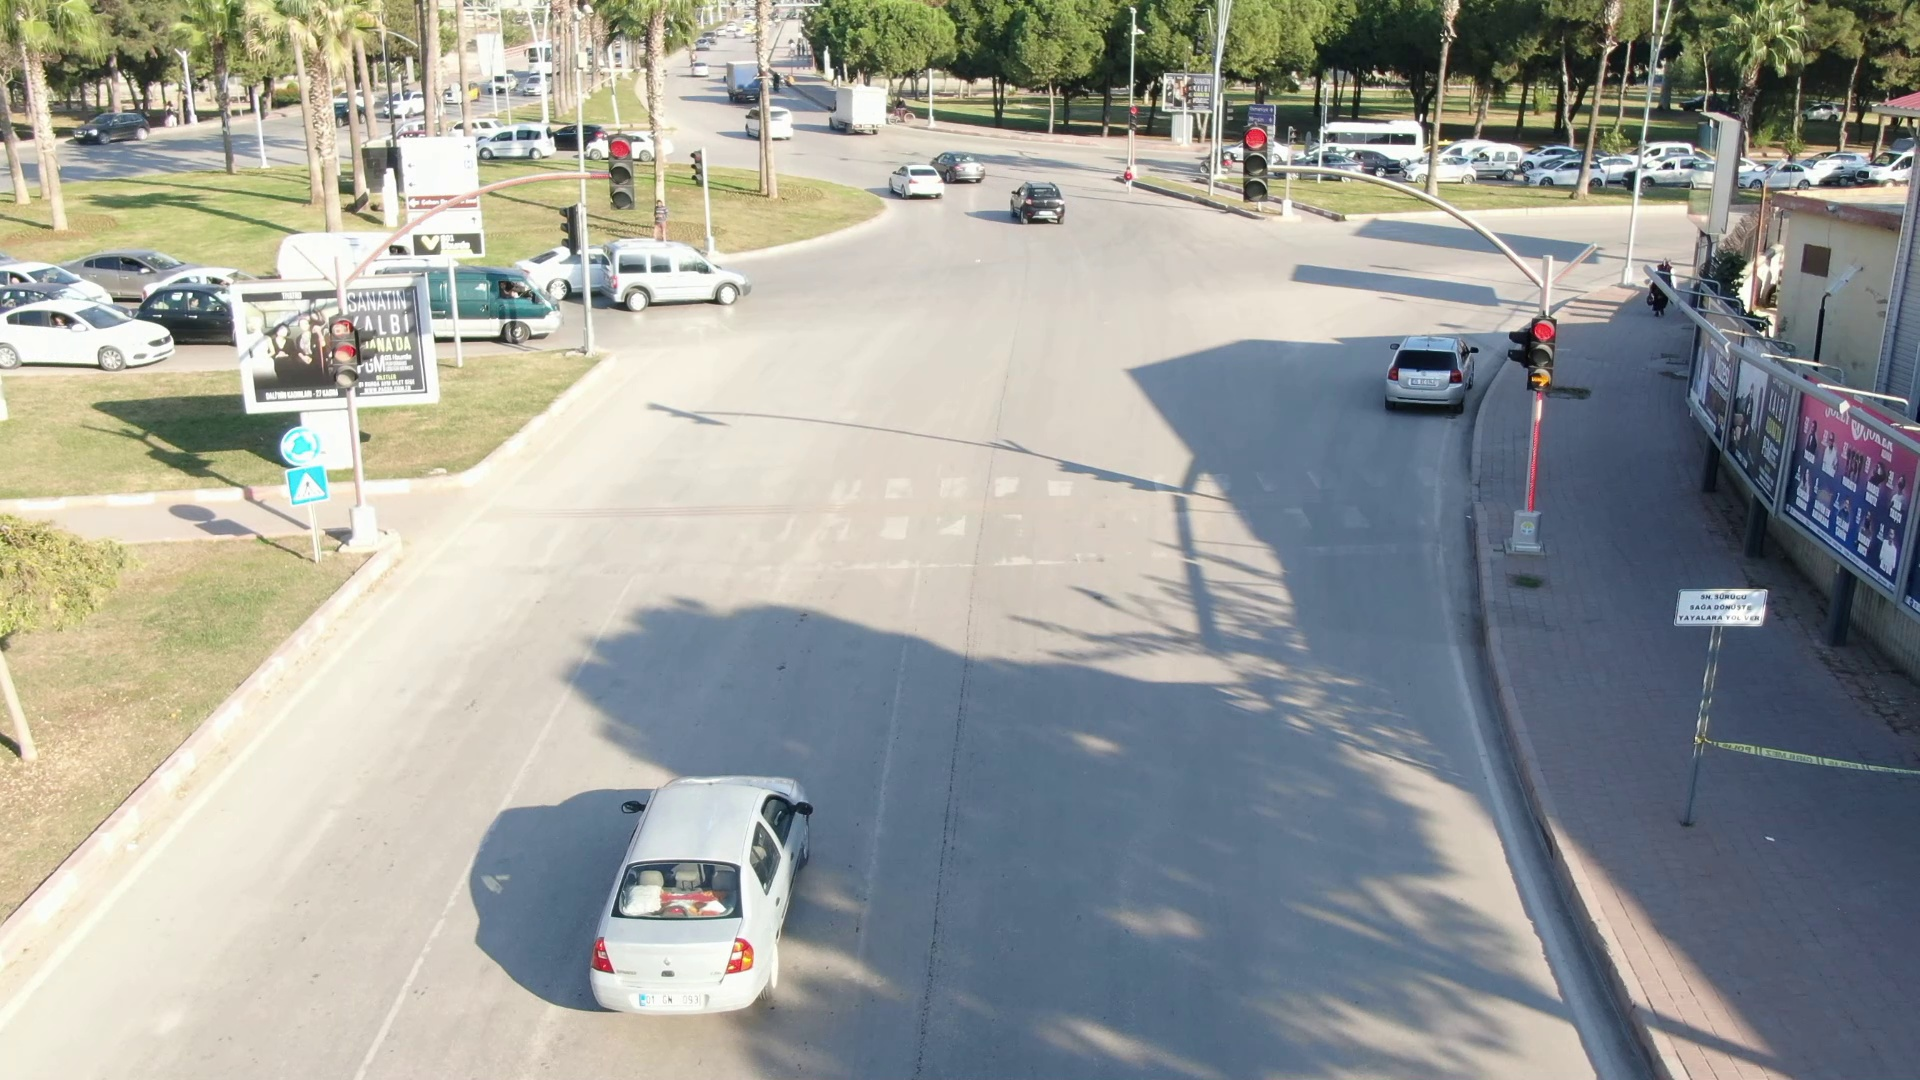car: (524, 740, 914, 1027), (1, 272, 178, 400), (593, 222, 779, 334), (1352, 302, 1480, 431), (810, 74, 905, 146), (996, 173, 1080, 235), (881, 157, 949, 212)
